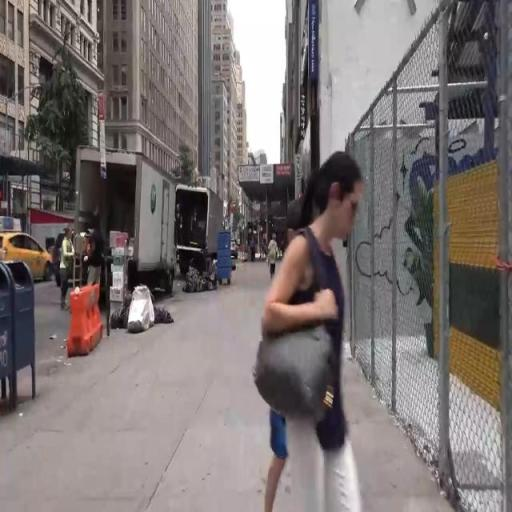person: (270, 159, 355, 512), (84, 224, 107, 304), (59, 224, 70, 311), (269, 230, 279, 271)
